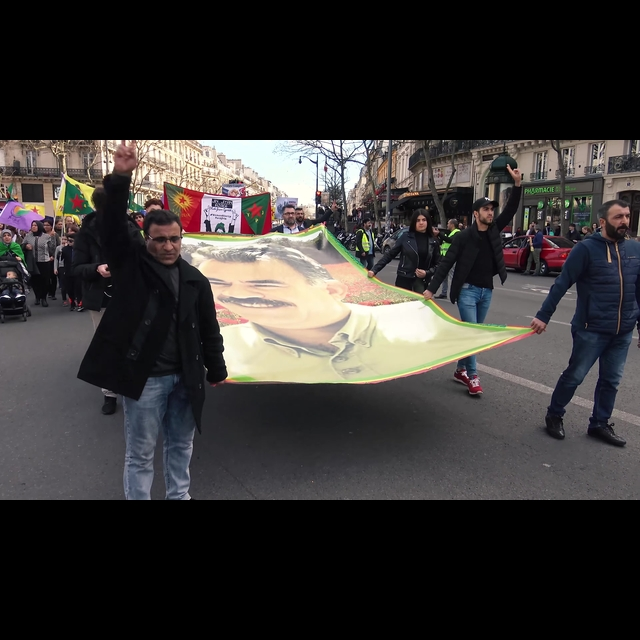ZI: (504, 159, 527, 188)
